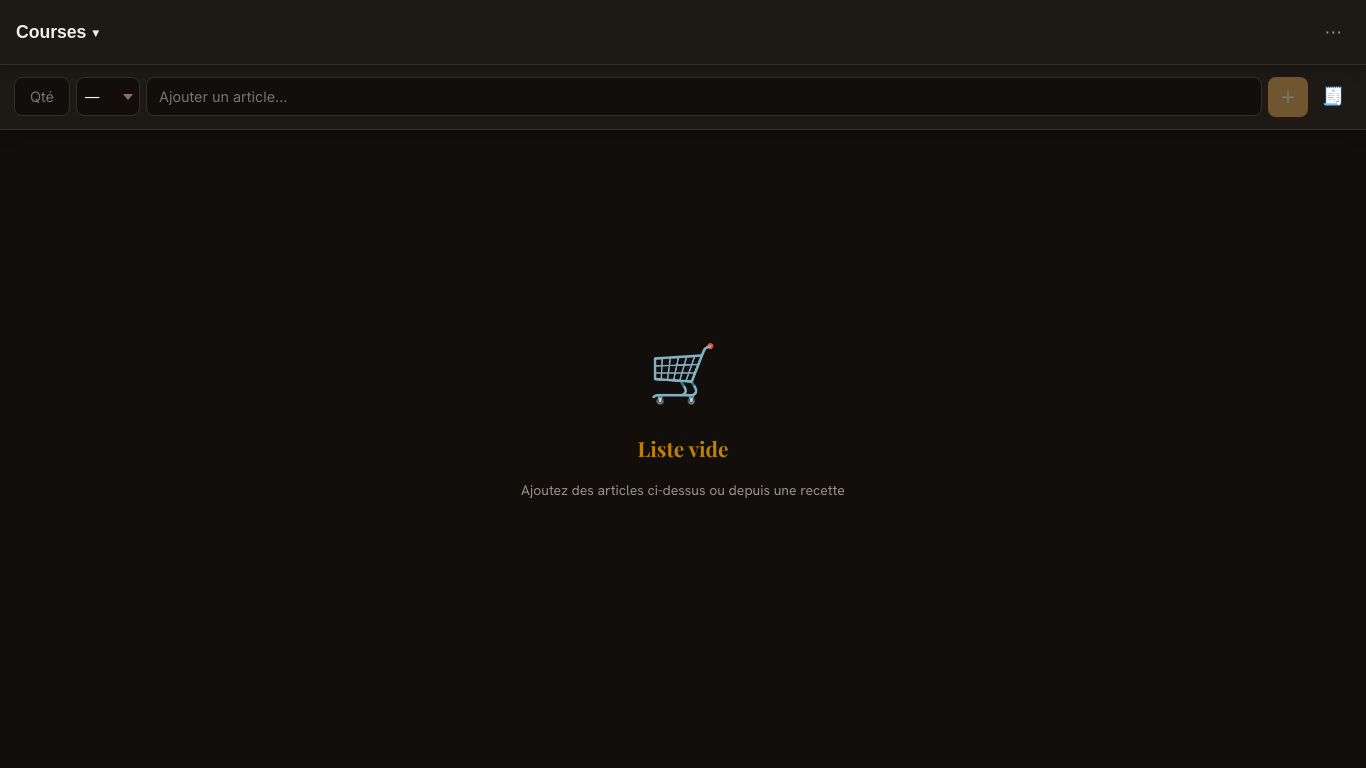
Test: ShoppingList › cliquer sur "Supprimer les cochés" ouvre la modale de confirmation
// Ouvrir le menu ⋯ — scoped au container courant pour éviter les stale DOM nodes
Click the button "⋯". click: point(1333, 33)
box: left=1316, top=18, right=1350, bottom=48
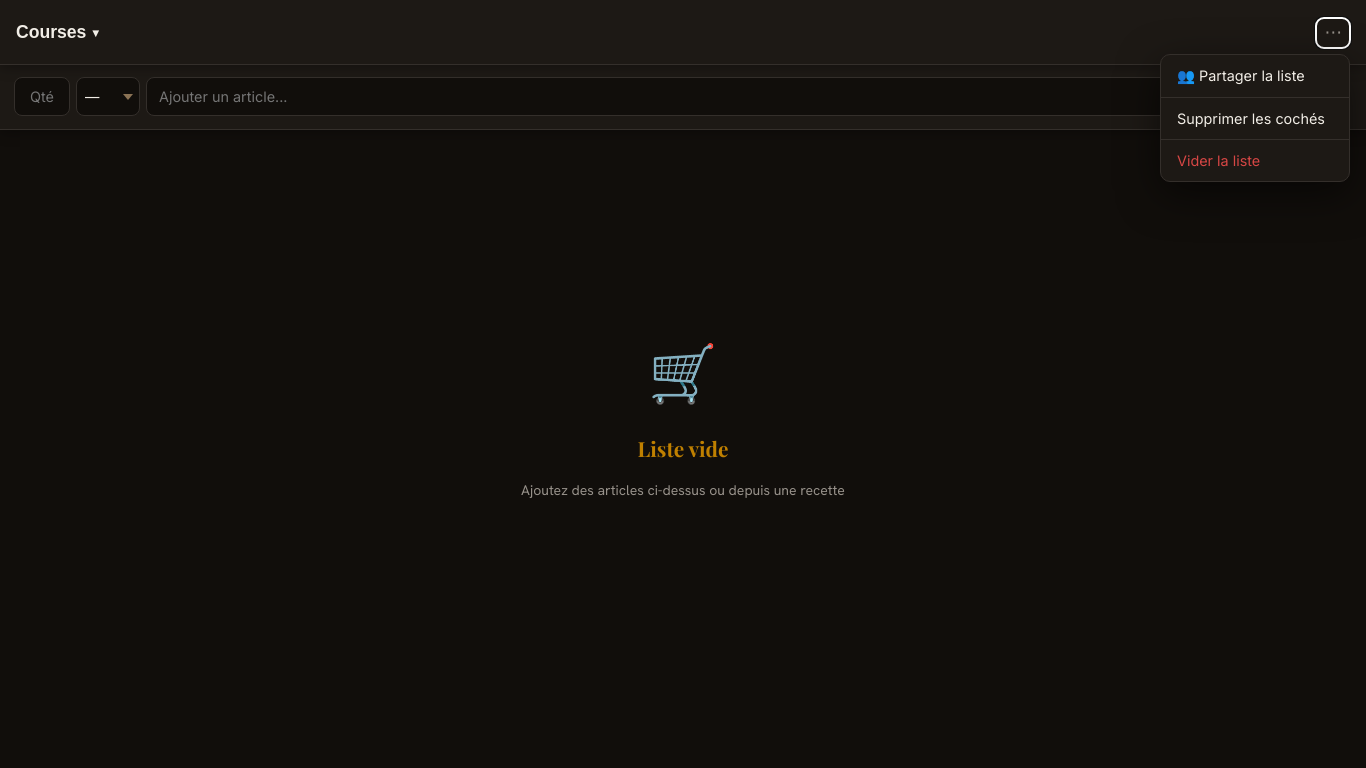
// Cliquer sur "Supprimer les cochés"
Click the button "Supprimer les cochés". click: point(1255, 119)
box: left=1161, top=98, right=1349, bottom=140
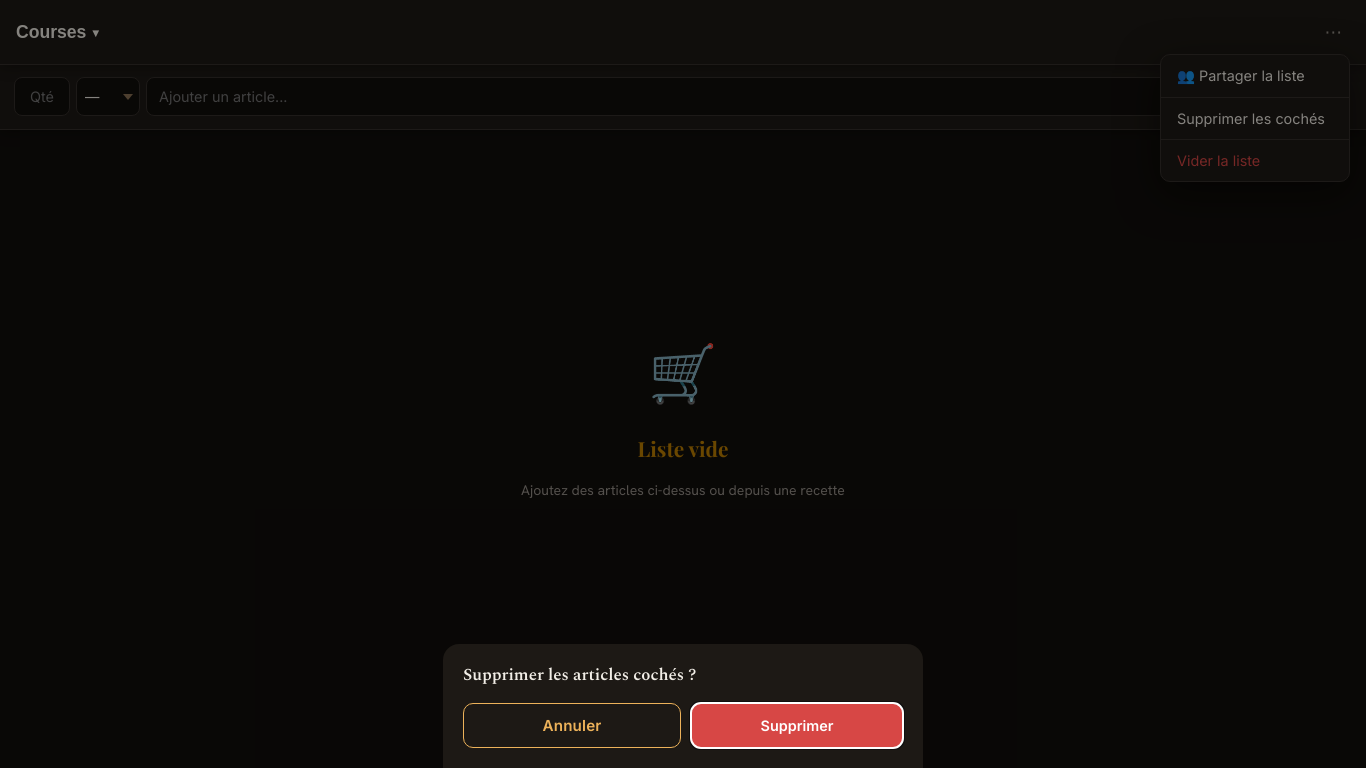
Result: the heading "Supprimer les articles cochés ?" is shown at left=463, top=662, right=696, bottom=688
